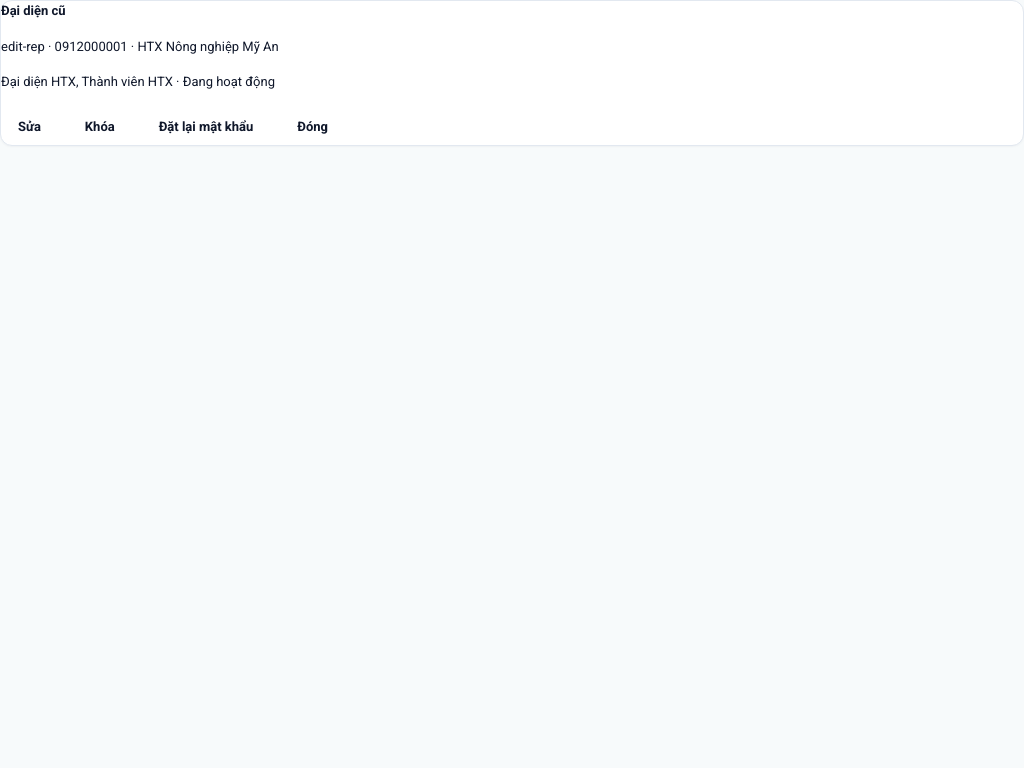
Test: [AH-281, FN-10/AC-05] resets the password after confirmation and shows the temporary password once
What coordinates should you click on to do the following:
click the button "Đặt lại mật khẩu"
I would click on:
 (206, 126)
Its box is [142,108,270,145].
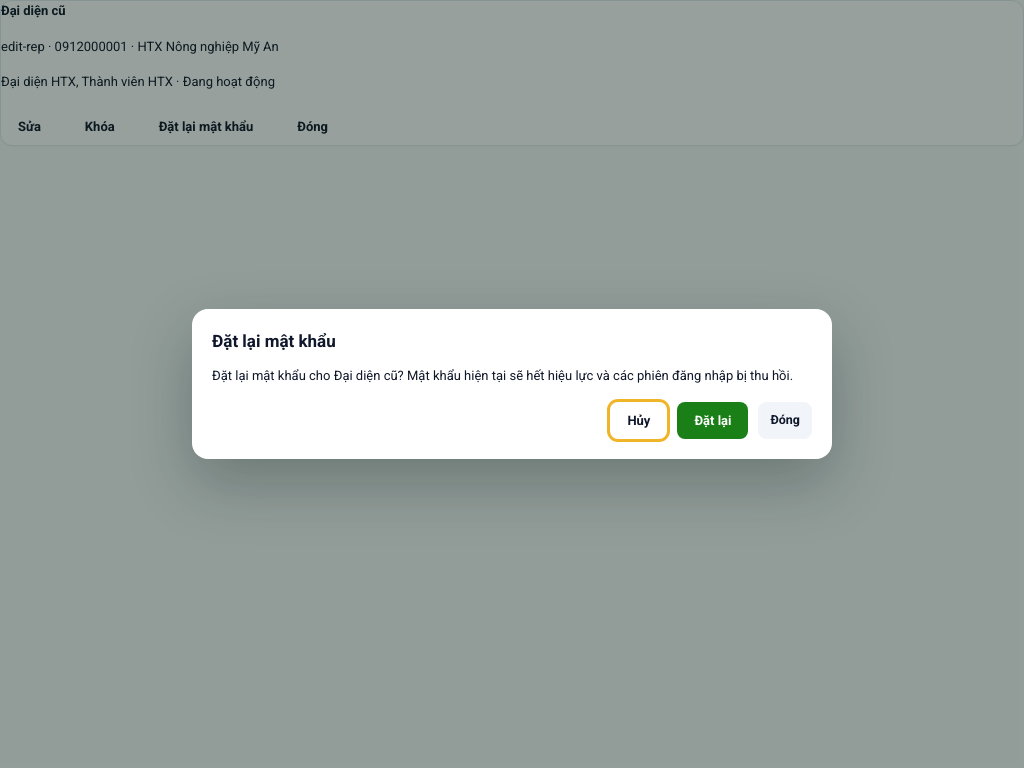
What coordinates should you click on to do the following:
click the button "Đặt lại"
I would click on:
 (713, 421)
Its box is [677,402,748,439].
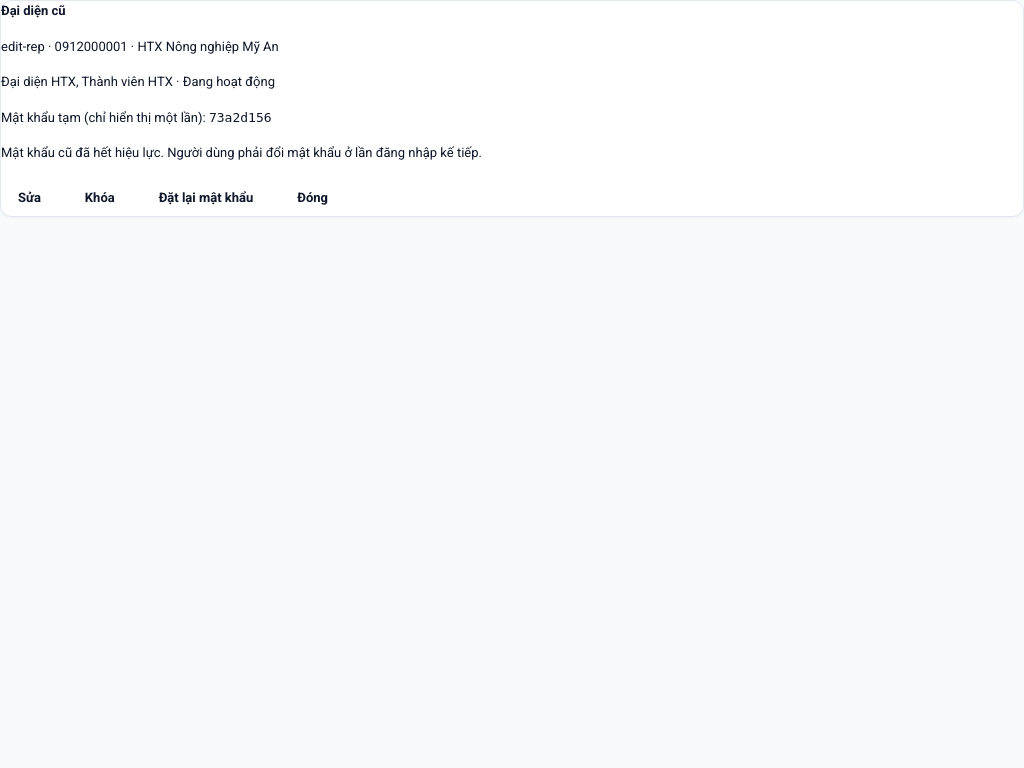
Expected: the text named "Mật khẩu tạm" reads "73a2d156", [209,110,272,124]
Expected: the message shows "phải đổi mật khẩu ở lần đăng nhập kế tiếp", [1,145,482,160]
